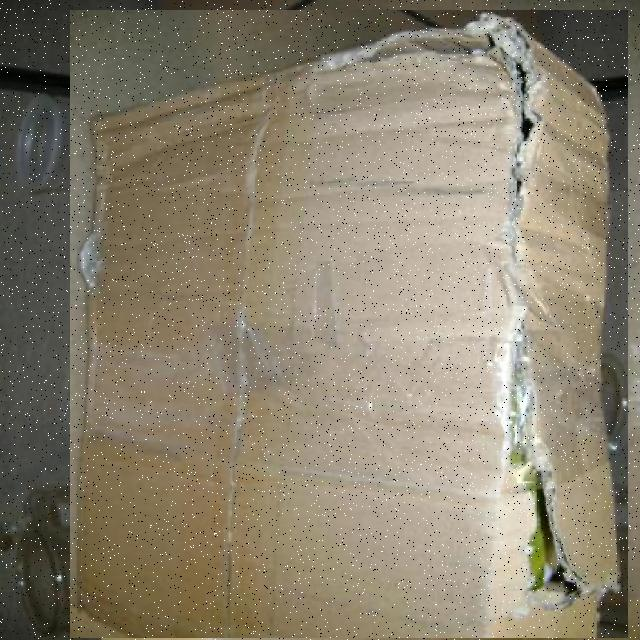defect: (70, 10, 628, 638)
